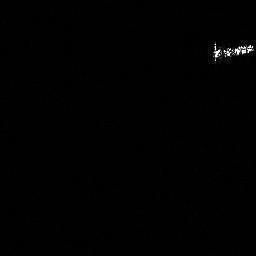ship: (198, 39, 256, 74)
